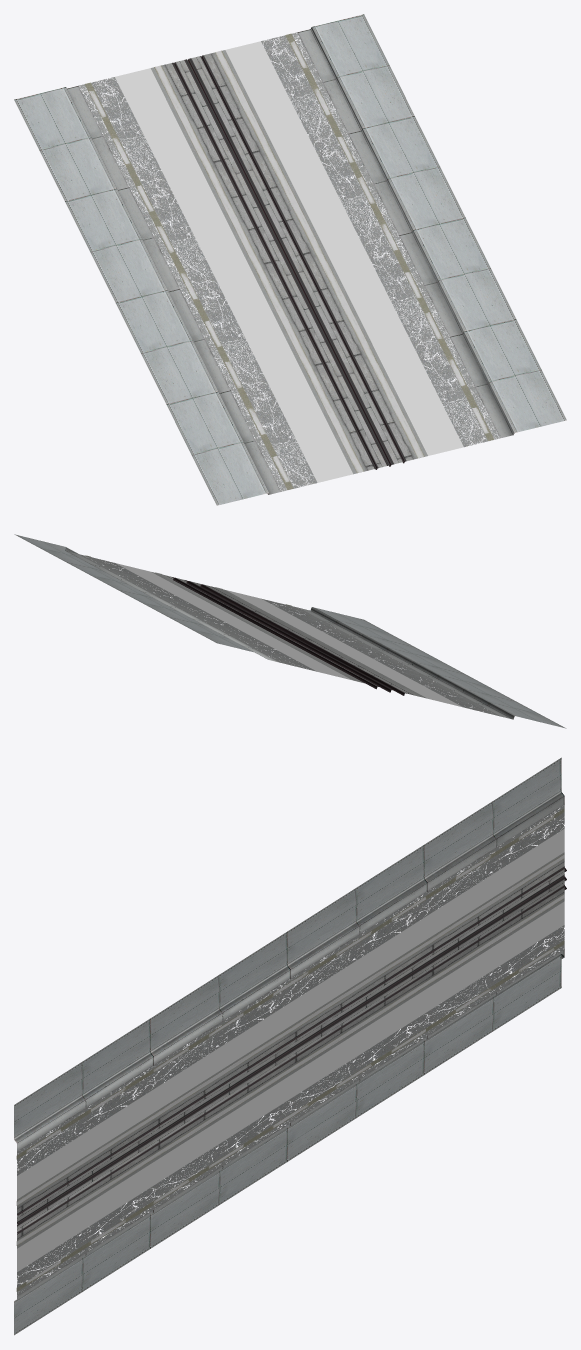
File: RoadRail_Angle.obj
3 views of the same model, one above another, from view 1: azimuth 30°, elevation 25°; view 2: azimuth 150°, elevation 25°; view 3: azimuth 270°, elevation 25° (orthographic). The views are drawn at different scales.
Visible parts, largest first — view 1: Road_Rail.009; view 2: Road_Rail.009; view 3: Road_Rail.009.
Part boxes in pixels (box(x1,y1,x2,y2)): Road_Rail.009: box(14, 14, 566, 505); Road_Rail.009: box(14, 534, 566, 728); Road_Rail.009: box(14, 757, 566, 1335).
Size of the model in its own units: 20 by 14.34 by 20.28.
